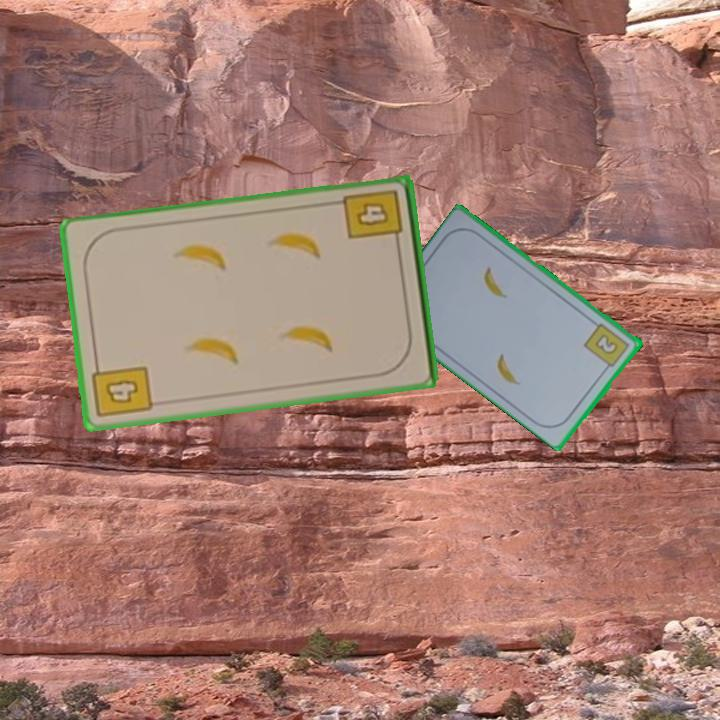2b: (581, 320, 633, 374)
4b: (340, 186, 406, 251), (89, 357, 155, 421)
